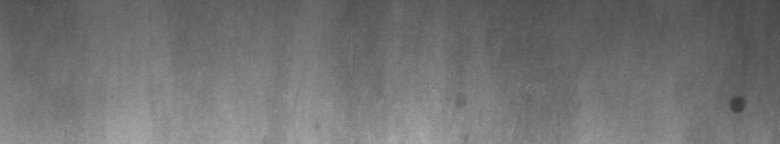fi: (728, 91, 752, 120)
